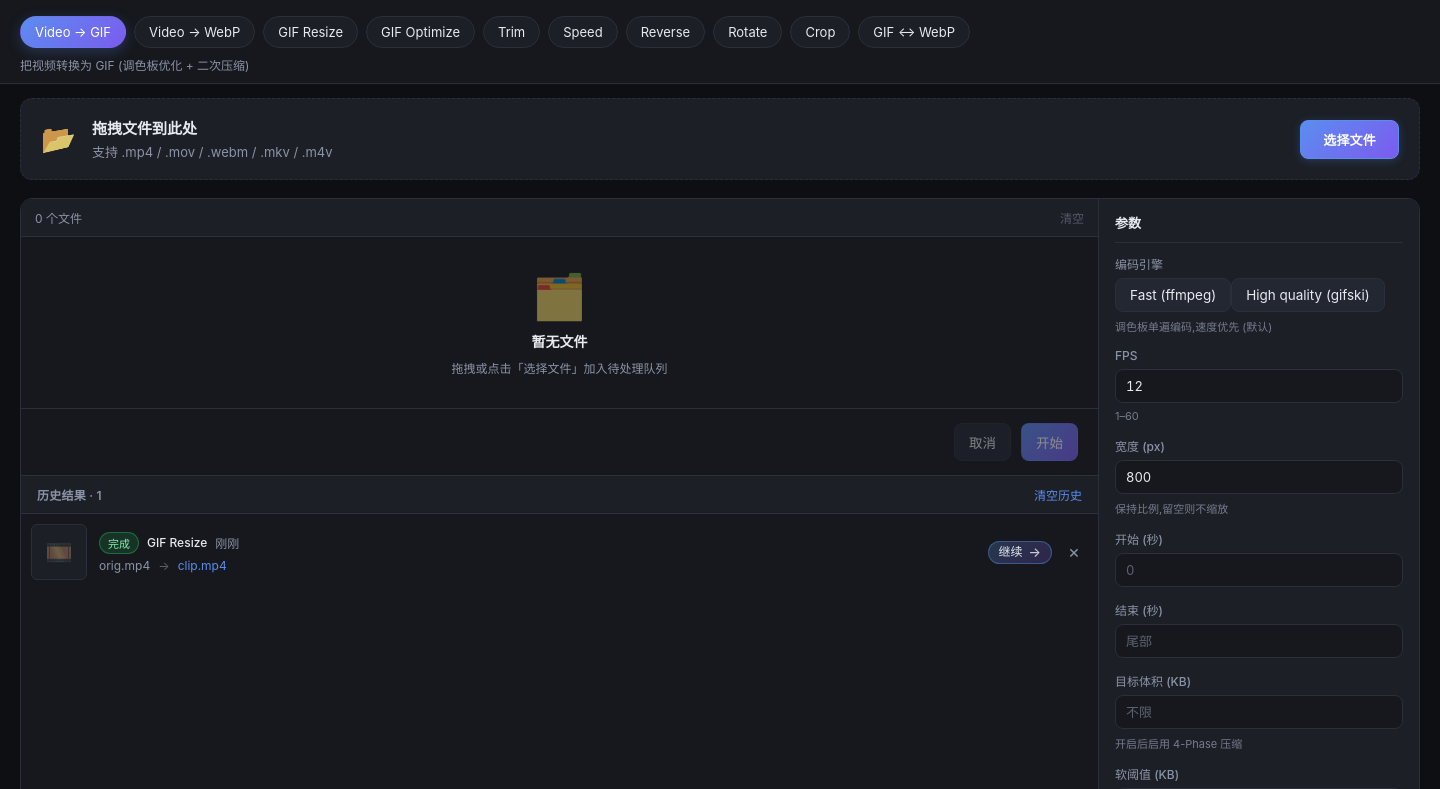
ToolboxPanel — lineage (R-TB-CHAIN-V2) › lineage chips for a .mp4 focus include only video-to-* kinds
Click the button with aria-label "继续处理". click: (1020, 552)
box: [988, 540, 1052, 564]
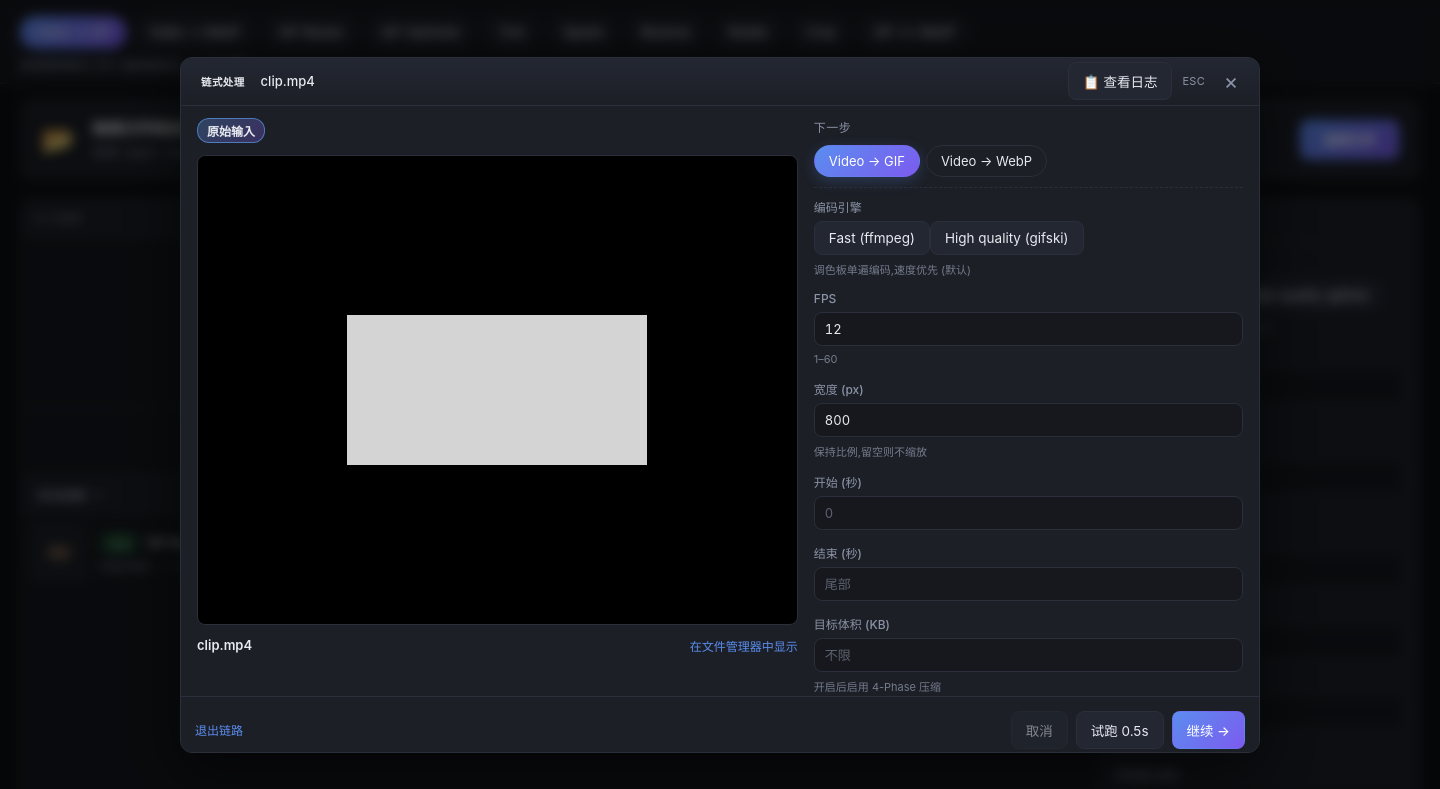
Check: the element "下一步操作" does not show "GIF Resize"
Check: the element named "下一步操作" shows "Video → GIF", box [814, 145, 920, 177]
Check: the element named "下一步操作" shows "Video → WebP", box [926, 145, 1047, 177]
